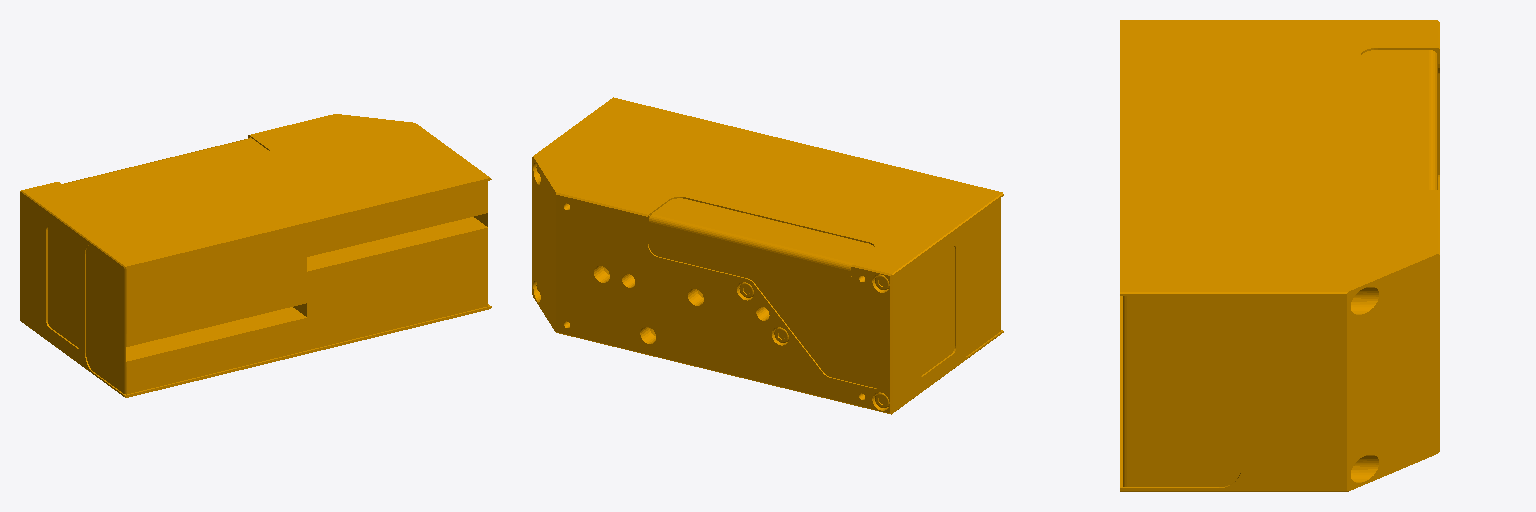
The robot description file, URDF, robot "wsg50":
<?xml version="1.0" encoding="utf-8"?>
<robot name="wsg50">
  <link name="wsg50_gripper_link">
    <visual>
      <origin rpy="0 0 0" xyz="0 0 0"/>
      <geometry>
        <mesh filename="package://blender_models/wsg_description/meshes/wsg50_110.obj" scale="0.001 0.001 0.001"/>
      </geometry>
    </visual>
    <collision>
      <geometry>
        <box size="0.146 0.0725 0.05"/>
      </geometry>
      <origin rpy="0.0 -0.0 0.0" xyz="0.0 -0.03625 0.0"/>
    </collision>
  </link>
</robot>

--- Facts derived from the render (not from the file) ---
Views: 3 orthographic renders of the robot side by side, from view 1: azimuth 30°, elevation 25°; view 2: azimuth 150°, elevation 25°; view 3: azimuth 270°, elevation 25°.
Robot: wsg50 — 1 links, 0 joints (none); root link wsg50_gripper_link; default pose: all joints at 0.
Visible links, largest first — view 1: wsg50_gripper_link; view 2: wsg50_gripper_link; view 3: wsg50_gripper_link.
Link boxes in pixels (left/top/right/bottom): wsg50_gripper_link: left=20, top=114, right=491, bottom=397; wsg50_gripper_link: left=532, top=97, right=1003, bottom=414; wsg50_gripper_link: left=1120, top=20, right=1439, bottom=491.
Size in the robot's own frame: 0.146 by 0.0725 by 0.05 metres.
1 mesh visuals loaded from 1 distinct referenced files (1 OBJ).
